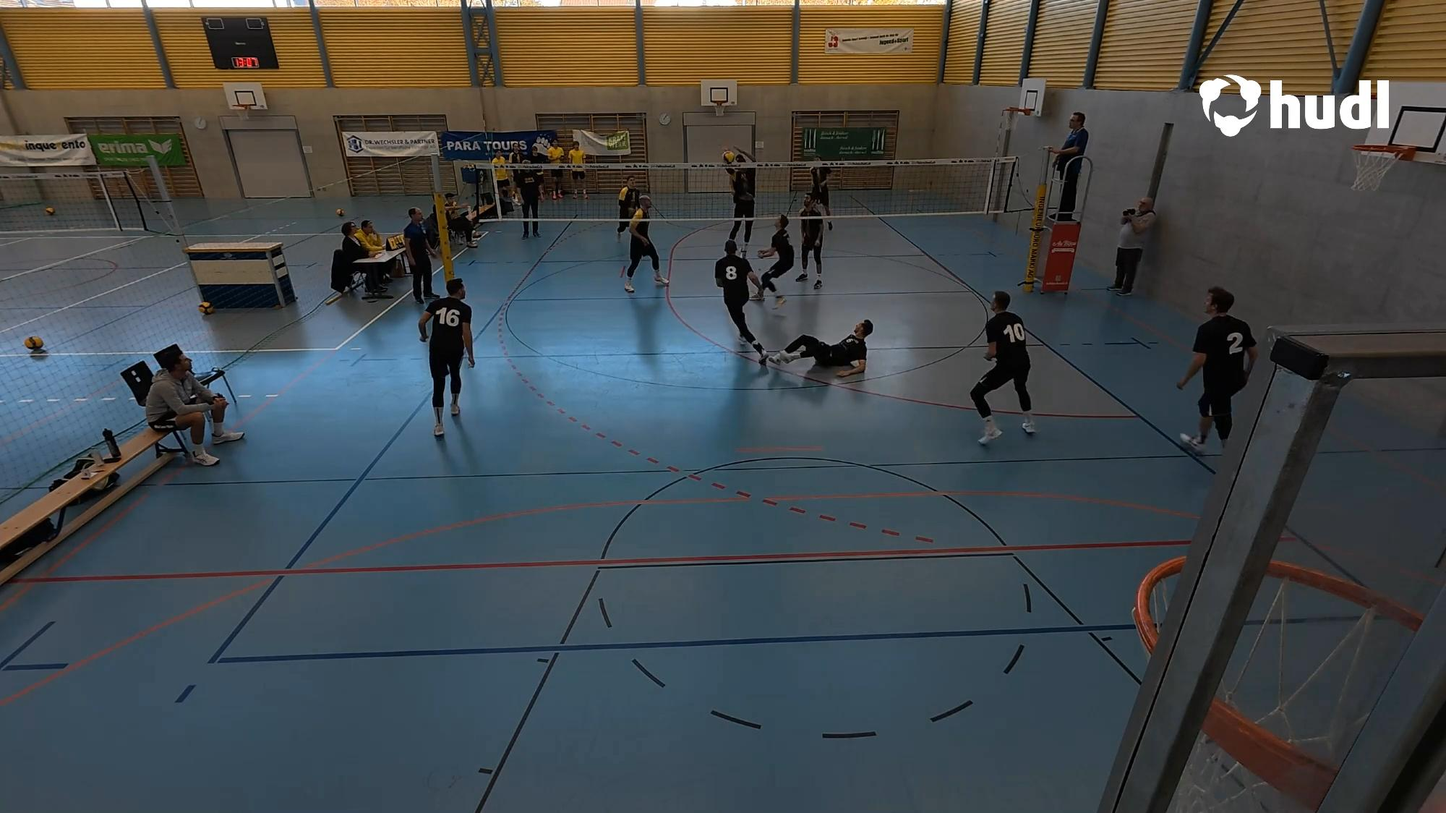Block: (719, 145, 759, 259)
Player: (1174, 287, 1255, 458), (971, 291, 1037, 443), (422, 277, 476, 438), (771, 316, 876, 386), (711, 240, 768, 359), (779, 197, 823, 291), (623, 207, 668, 294), (802, 186, 832, 278), (809, 161, 834, 228), (612, 178, 638, 242)
ball: (717, 148, 737, 165)
